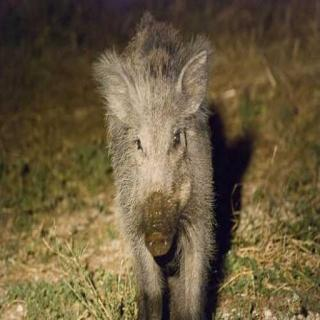Pig: (95, 9, 239, 320)
